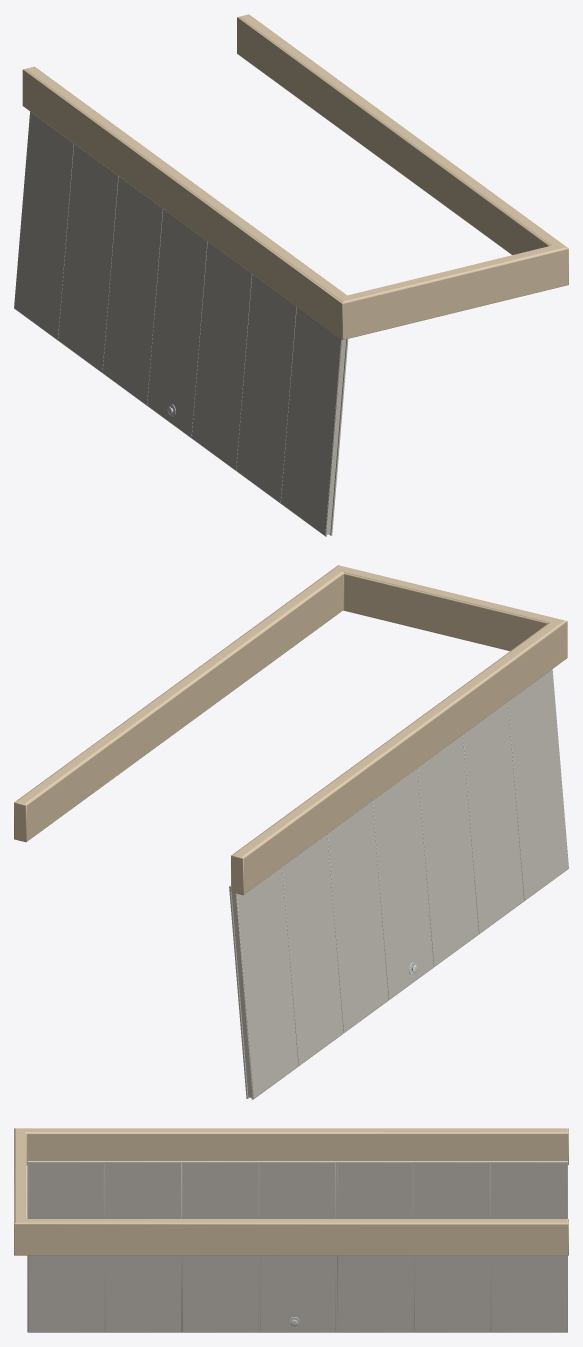
The model's file is doorKitchen2.glb.
3 views of the same model, one above another, from view 1: azimuth 30°, elevation 25°; view 2: azimuth 150°, elevation 25°; view 3: azimuth 270°, elevation 25° (orthographic). The views are drawn at different scales.
Visible parts, largest first — view 1: Mesh1__1_0, Mesh6__2_0; view 2: Mesh1__1_0, Mesh6__2_0; view 3: Mesh1__1_0, Mesh6__2_0.
Boxes of the visible parts, <box> form: Mesh1__1_0: <box>14,111,348,536</box>; Mesh6__2_0: <box>22,14,568,339</box>; Mesh1__1_0: <box>229,669,568,1099</box>; Mesh6__2_0: <box>14,565,567,895</box>; Mesh1__1_0: <box>27,1161,567,1332</box>; Mesh6__2_0: <box>14,1128,568,1255</box>.
Size of the model in its own units: 3.06 by 2.92 by 7.11.
